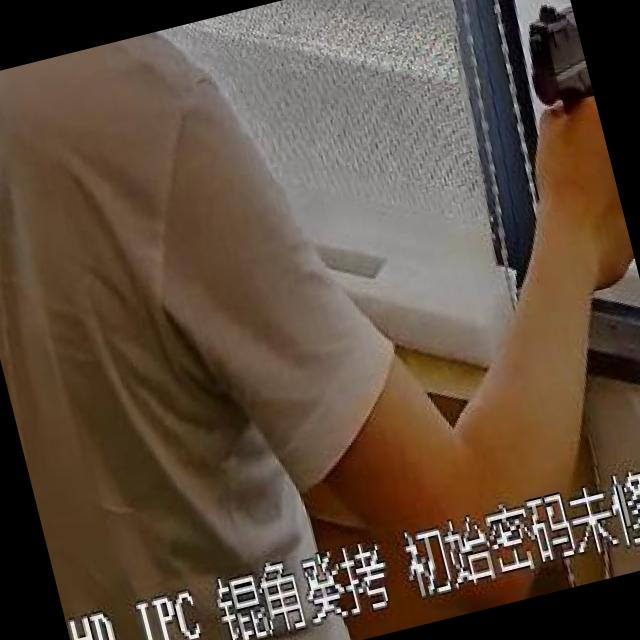Guns: (467, 0, 606, 167)
